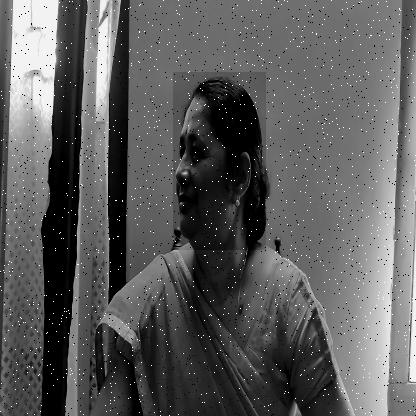Distracted: (173, 72, 266, 250)
